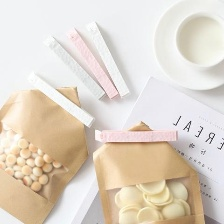snack: (0, 81, 95, 224), (87, 115, 211, 224)
